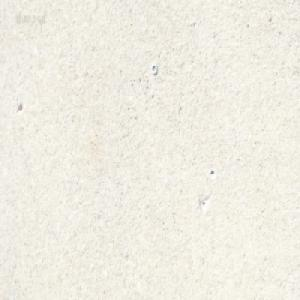Washer: (151, 63, 157, 75)
